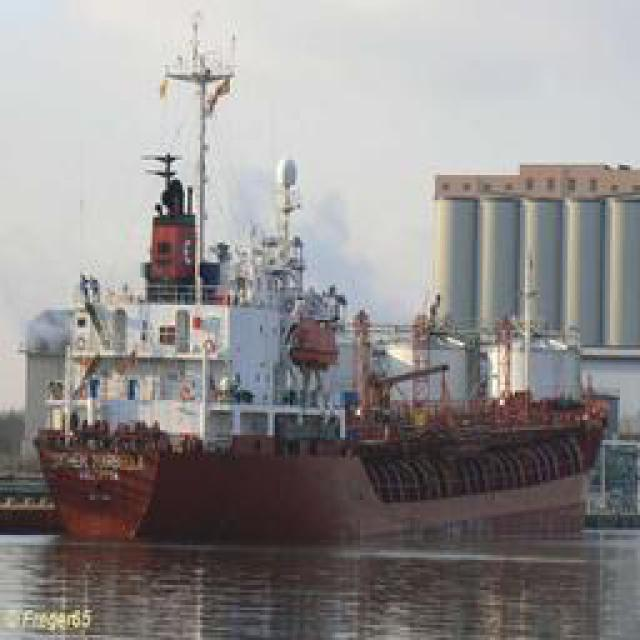Ship: (32, 12, 422, 542)
